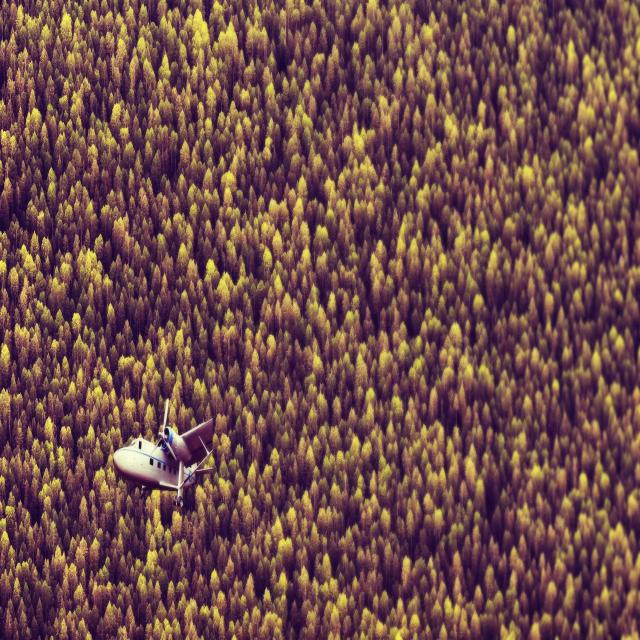airplane: (112, 398, 215, 508)
